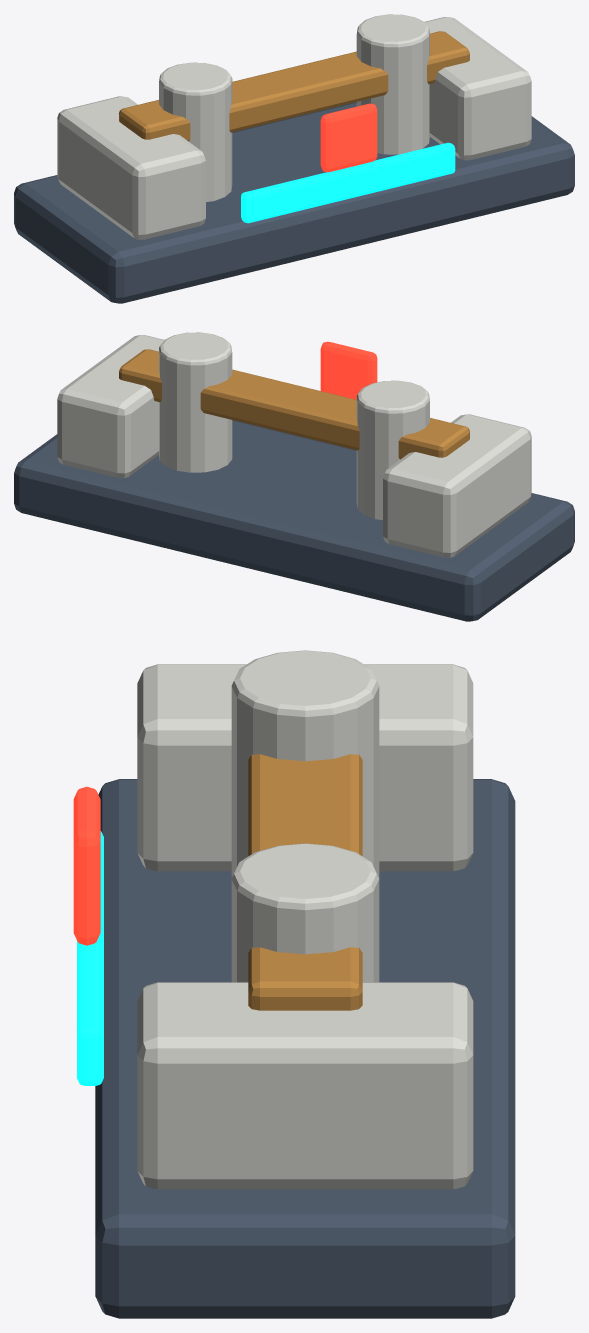
Rendered from ConvergenceBusbarModel.fbx.
3 views of the same model, one above another, from view 1: azimuth 30°, elevation 25°; view 2: azimuth 150°, elevation 25°; view 3: azimuth 270°, elevation 25° (orthographic). The views are drawn at different scales.
Visible parts, largest first — view 1: Busbar armored plinth, Left ceramic shoulder, Crossfeed bus, Right ceramic shoulder, Right bus insulator, Cyan crossfeed window, Left bus insulator, Red security node; view 2: Busbar armored plinth, Left ceramic shoulder, Crossfeed bus, Right ceramic shoulder, Right bus insulator, Left bus insulator, Red security node; view 3: Busbar armored plinth, Right ceramic shoulder, Left ceramic shoulder, Left bus insulator, Crossfeed bus, Right bus insulator, Cyan crossfeed window, Red security node.
Boxes of the visible parts, box(x1,y1,x2,y2) form: Busbar armored plinth: box(14, 102, 574, 303); Left ceramic shoulder: box(57, 96, 205, 239); Crossfeed bus: box(119, 31, 469, 141); Right ceramic shoulder: box(424, 17, 531, 160); Right bus insulator: box(356, 14, 429, 154); Cyan crossfeed window: box(241, 142, 455, 223); Left bus insulator: box(159, 62, 232, 202); Red security node: box(320, 103, 377, 172); Busbar armored plinth: box(14, 420, 574, 621); Left ceramic shoulder: box(383, 414, 531, 557); Crossfeed bus: box(119, 349, 469, 459); Right ceramic shoulder: box(57, 335, 164, 478); Right bus insulator: box(159, 332, 232, 472); Left bus insulator: box(356, 380, 429, 520); Red security node: box(320, 341, 377, 399); Busbar armored plinth: box(95, 779, 515, 1318); Right ceramic shoulder: box(137, 982, 473, 1189); Left ceramic shoulder: box(137, 664, 473, 871); Left bus insulator: box(231, 650, 379, 878); Crossfeed bus: box(248, 754, 362, 1010); Right bus insulator: box(231, 843, 379, 982); Cyan crossfeed window: box(77, 831, 103, 1085); Red security node: box(73, 786, 100, 945).
Bounding box in the file's own units: 3.2 × 1.07 × 1.32.
